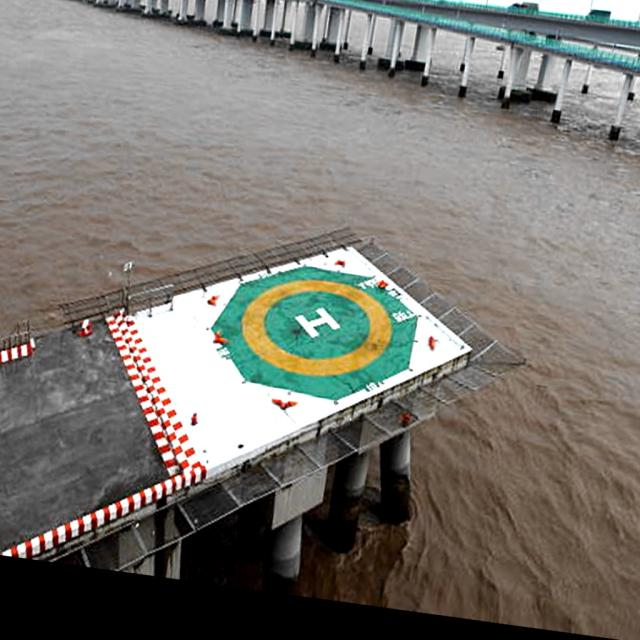helipad: (237, 275, 395, 379)
